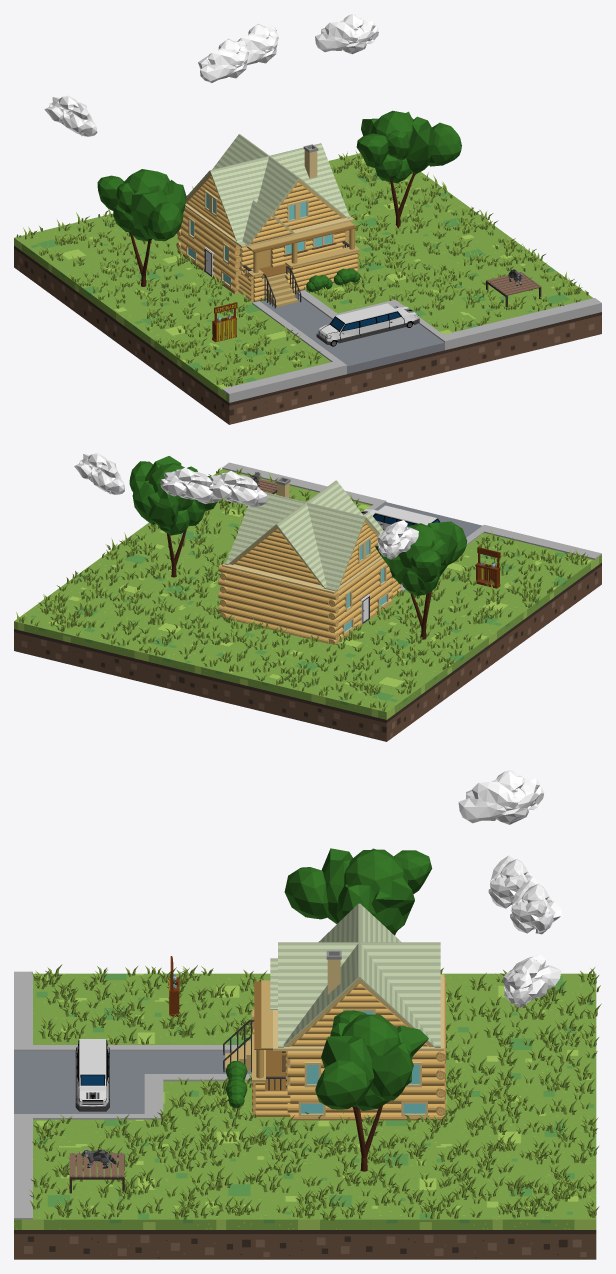
3 renders of one model, top to bottom at view 1: azimuth 30°, elevation 25°; view 2: azimuth 150°, elevation 25°; view 3: azimuth 270°, elevation 25°, orthographic. The views are drawn at different scales.
Visible parts, largest first — view 1: Cube.006, Cube.1516, Circle.012_Grass_0.192, Cube.007, tree, tree.001, VEHICLES_LIMOUSINE, Cube.009, OBJRANDOM_LEMONADE_STAND; view 2: Cube.006, Cube.1516, Circle.012_Grass_0.192, Cube.007, tree.001, tree, VEHICLES_LIMOUSINE, OBJRANDOM_LEMONADE_STAND; view 3: Cube.006, Circle.012_Grass_0.192, Cube.1516, tree, Cube.007, tree.001, VEHICLES_LIMOUSINE, Cube.009.
Boxes of the visible parts, x1=… form: Cube.006: x1=14, y1=153, x2=601, y2=424; Cube.1516: x1=176, y1=134, x2=359, y2=308; Circle.012_Grass_0.192: x1=16, y1=150, x2=588, y2=386; Cube.007: x1=44, y1=14, x2=378, y2=136; tree: x1=356, y1=110, x2=461, y2=228; tree.001: x1=97, y1=169, x2=186, y2=286; VEHICLES_LIMOUSINE: x1=316, y1=303, x2=419, y2=346; Cube.009: x1=486, y1=272, x2=541, y2=306; OBJRANDOM_LEMONADE_STAND: x1=212, y1=302, x2=237, y2=342; Cube.006: x1=14, y1=462, x2=601, y2=741; Cube.1516: x1=218, y1=477, x2=401, y2=644; Circle.012_Grass_0.192: x1=16, y1=468, x2=588, y2=711; Cube.007: x1=74, y1=453, x2=418, y2=559; tree.001: x1=375, y1=521, x2=467, y2=639; tree: x1=129, y1=456, x2=216, y2=577; VEHICLES_LIMOUSINE: x1=361, y1=505, x2=439, y2=530; OBJRANDOM_LEMONADE_STAND: x1=475, y1=547, x2=500, y2=588; Cube.006: x1=14, y1=971, x2=596, y2=1259; Circle.012_Grass_0.192: x1=29, y1=964, x2=601, y2=1220; Cube.1516: x1=223, y1=903, x2=445, y2=1120; tree: x1=315, y1=1010, x2=428, y2=1171; Cube.007: x1=458, y1=770, x2=561, y2=1007; tree.001: x1=284, y1=848, x2=432, y2=935; VEHICLES_LIMOUSINE: x1=75, y1=1039, x2=109, y2=1111; Cube.009: x1=69, y1=1153, x2=124, y2=1193.
Bounding box in the file's own units: 4071 × 2153 × 4040.
43 materials, 4 textured.
